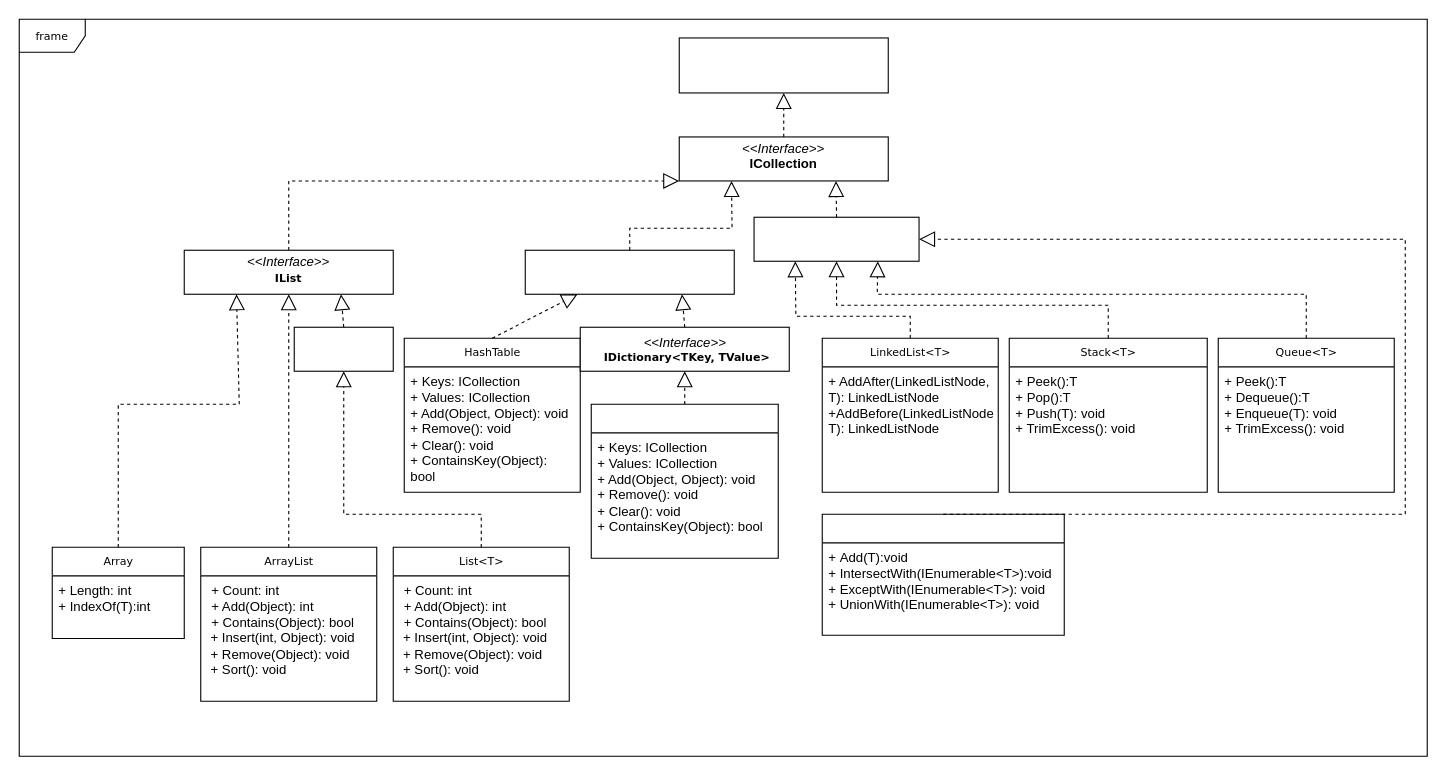
This 1447x776 diagram has some shape labels left out. Each missing label, with the box of its shape:
<<Interface>> ICollection<T>: (753, 216, 919, 261)
<<Interface>> IDictionary: (524, 249, 734, 294)
<<Interface>> IEnumerable: (678, 37, 888, 93)
<<Interface>> IList<T>: (293, 326, 393, 371)
Dictionary<Tkey, TValue>: (590, 403, 778, 558)
HashSet<T>: (821, 513, 1064, 635)
